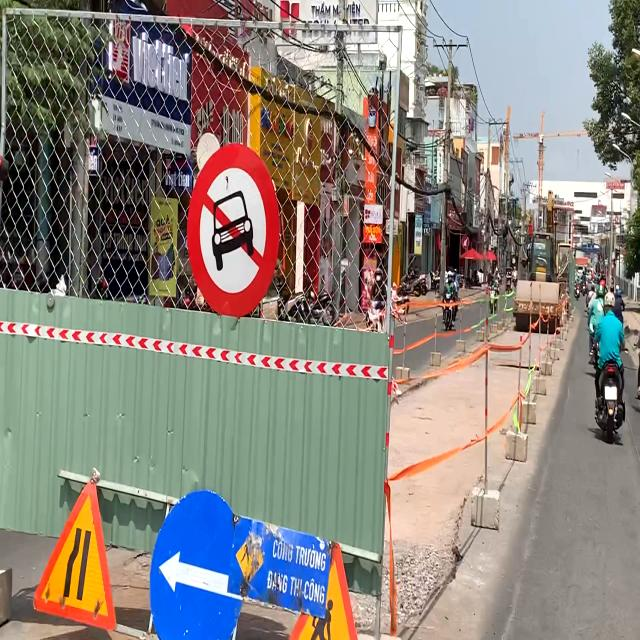P.103a: (185, 141, 281, 319)
R.301c: (148, 486, 245, 640)
W.203b: (31, 473, 118, 633)
